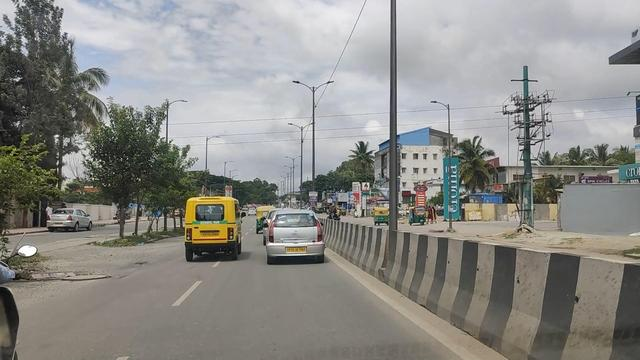LMV: (176, 197, 247, 261), (256, 206, 327, 269)
RoadDamages: (29, 257, 128, 293), (132, 251, 156, 276)
